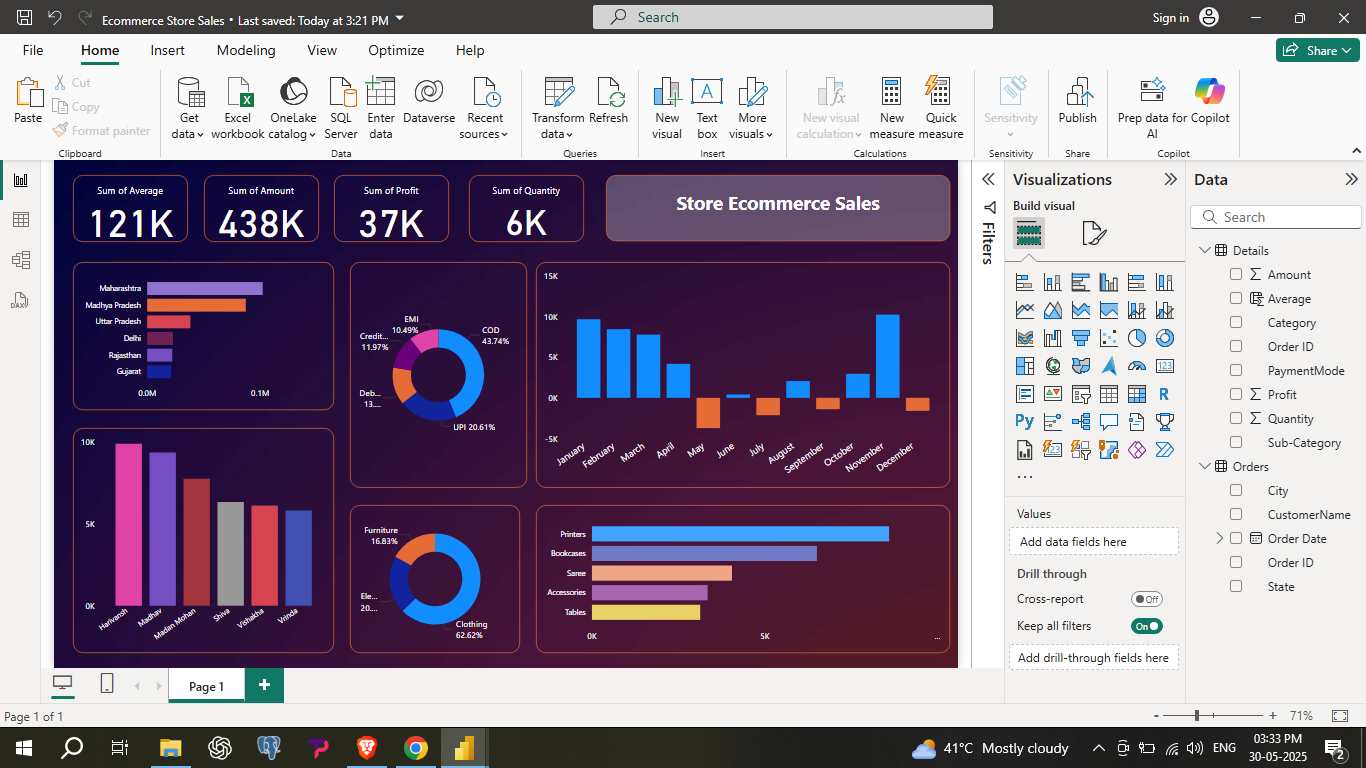

The dashboard page shown, as its layout file describes it:
{"tool":"powerbi","page":{"name":"Page 1","canvas":[1280,720],"ordinal":0},"visuals":[{"type":"textbox","box":[782.4,21.3,487.6,93.5],"z":0},{"type":"columnChart","fields":{"Category":["Orders.Order Date.Variation.Date Hierarchy.Month"],"Y":["Details.Profit"]},"box":[683.1,144.6,586.8,320.3],"z":1000},{"type":"barChart","fields":{"Category":["Details.Sub-Category"],"Y":["Details.Profit"]},"box":[683.1,489,586.8,209.8],"z":2000},{"type":"donutChart","fields":{"Category":["Details.Category"],"Y":["Details.Quantity"]},"box":[419.5,489,240.9,209.8],"z":3000},{"type":"donutChart","fields":{"Y":["Details.Quantity"],"Category":["Details.PaymentMode"]},"box":[419.5,144.6,250.9,320.3],"z":4000},{"type":"cardVisual","fields":{"Data":["Details.Amount"]},"box":[212.6,21.3,163,95],"z":4001},{"type":"cardVisual","fields":{"Data":["Details.Profit"]},"box":[396.9,21.3,163,95],"z":4002},{"type":"cardVisual","fields":{"Data":["Details.Quantity"]},"box":[588.2,21.3,163,95],"z":4003},{"type":"cardVisual","fields":{"Data":["Details.Average"]},"box":[26.9,21.3,163,95],"z":4004},{"type":"barChart","fields":{"Category":["Orders.State"],"Y":["Details.Amount"]},"box":[26.9,144.6,369.9,209.8],"z":4005},{"type":"clusteredColumnChart","fields":{"Category":["Orders.CustomerName"],"Y":["Details.Amount"]},"box":[26.9,379.8,369.9,318.9],"z":4006}]}

Visuals, with their boxes on the page's 1280x720 design canvas (x1, y1, x2, y2). These are canvas units, not pixel positions in the 1366x768 screenshot, which may show the page scaled, cropped or inside an application window:
textbox: left=782, top=21, right=1270, bottom=115
columnChart - Orders.Order Date.Variation.Date Hierarchy.Month x Details.Profit: left=683, top=145, right=1270, bottom=465
barChart - Details.Sub-Category x Details.Profit: left=683, top=489, right=1270, bottom=699
donutChart - Details.Category x Details.Quantity: left=420, top=489, right=660, bottom=699
donutChart - Details.Quantity x Details.PaymentMode: left=420, top=145, right=670, bottom=465
cardVisual - Details.Amount: left=213, top=21, right=376, bottom=116
cardVisual - Details.Profit: left=397, top=21, right=560, bottom=116
cardVisual - Details.Quantity: left=588, top=21, right=751, bottom=116
cardVisual - Details.Average: left=27, top=21, right=190, bottom=116
barChart - Orders.State x Details.Amount: left=27, top=145, right=397, bottom=354
clusteredColumnChart - Orders.CustomerName x Details.Amount: left=27, top=380, right=397, bottom=699
